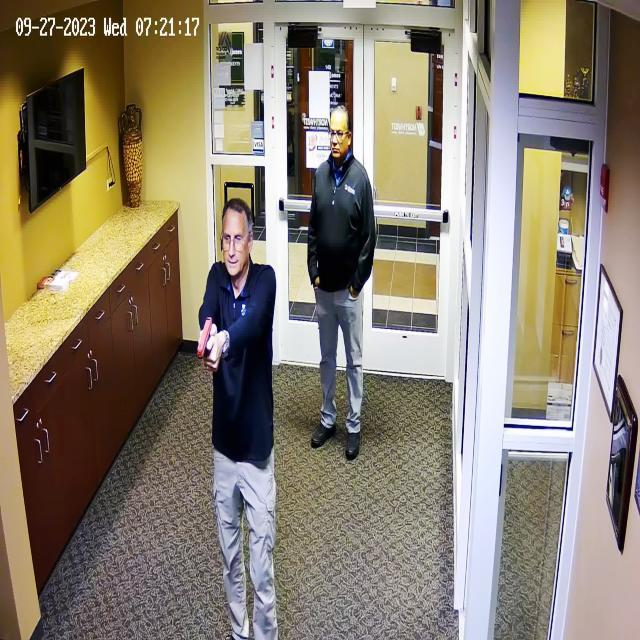Gun: (192, 312, 232, 378)
